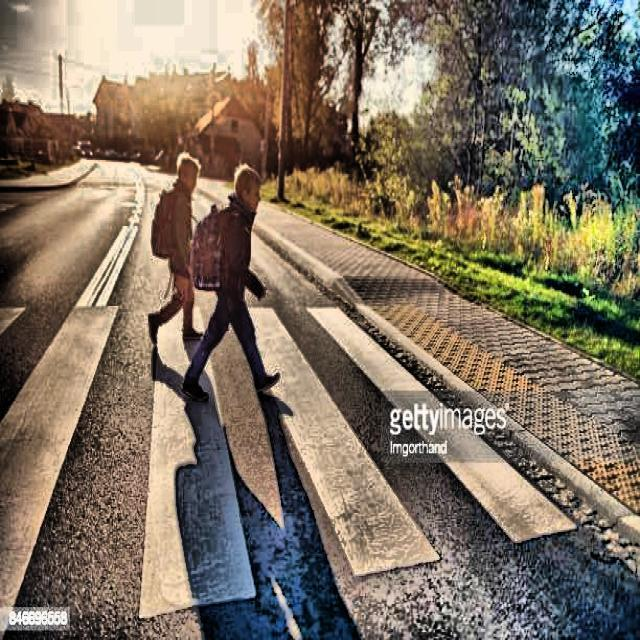intact_crosswalk: (0, 307, 586, 633)
